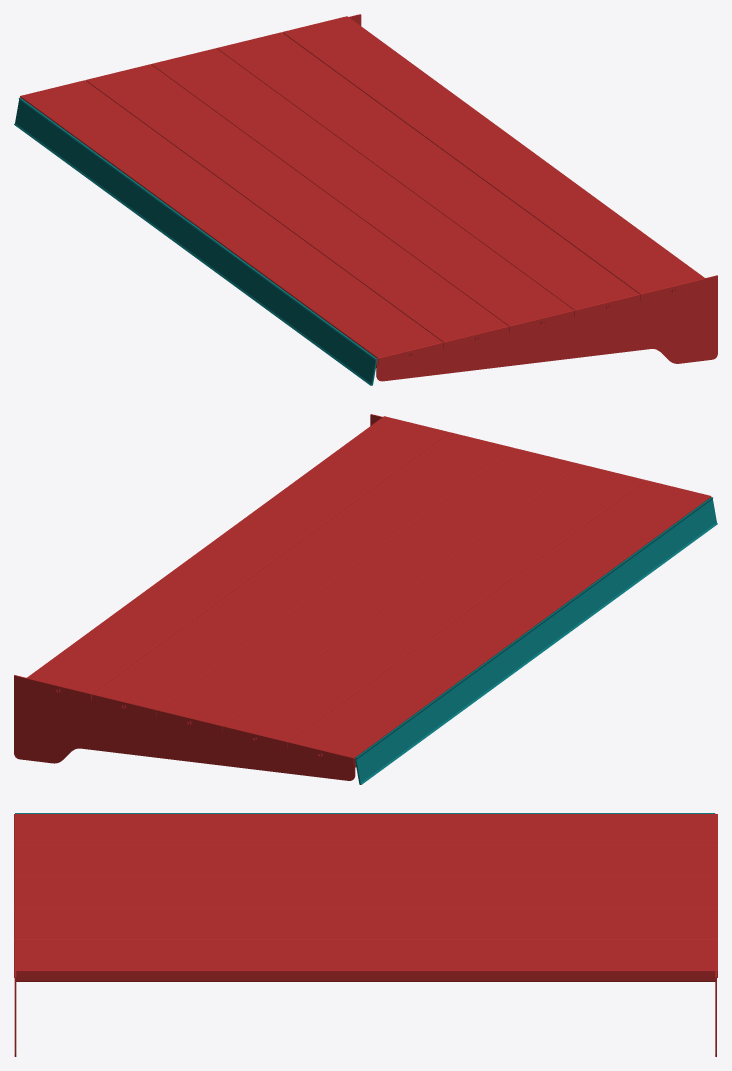
Rendered from SM_Shelves_Part_01.fbx.
3 views of the same model, one above another, from view 1: azimuth 30°, elevation 25°; view 2: azimuth 150°, elevation 25°; view 3: azimuth 270°, elevation 25° (orthographic).
Visible parts, largest first — view 1: SM_Shelves_Part_01; view 2: SM_Shelves_Part_01; view 3: SM_Shelves_Part_01.
Boxes of the visible parts, bbox=[...] form: SM_Shelves_Part_01: bbox=[14, 14, 717, 385]; SM_Shelves_Part_01: bbox=[14, 414, 717, 784]; SM_Shelves_Part_01: bbox=[14, 813, 717, 1056].
Bounding box in the file's own units: 55.92 × 12.83 × 100.
